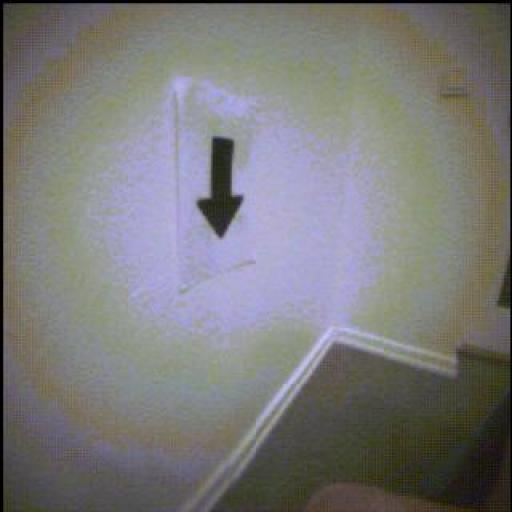Arrow: (198, 139, 244, 238)
